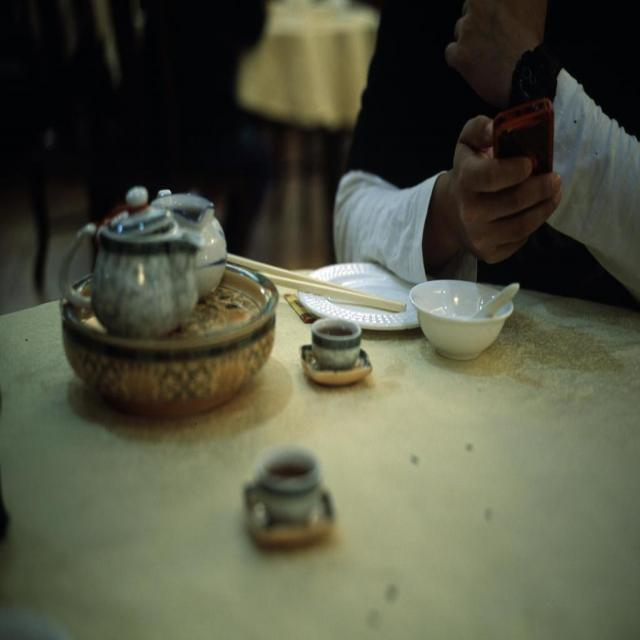non-organic waste: (61, 220, 286, 410)
